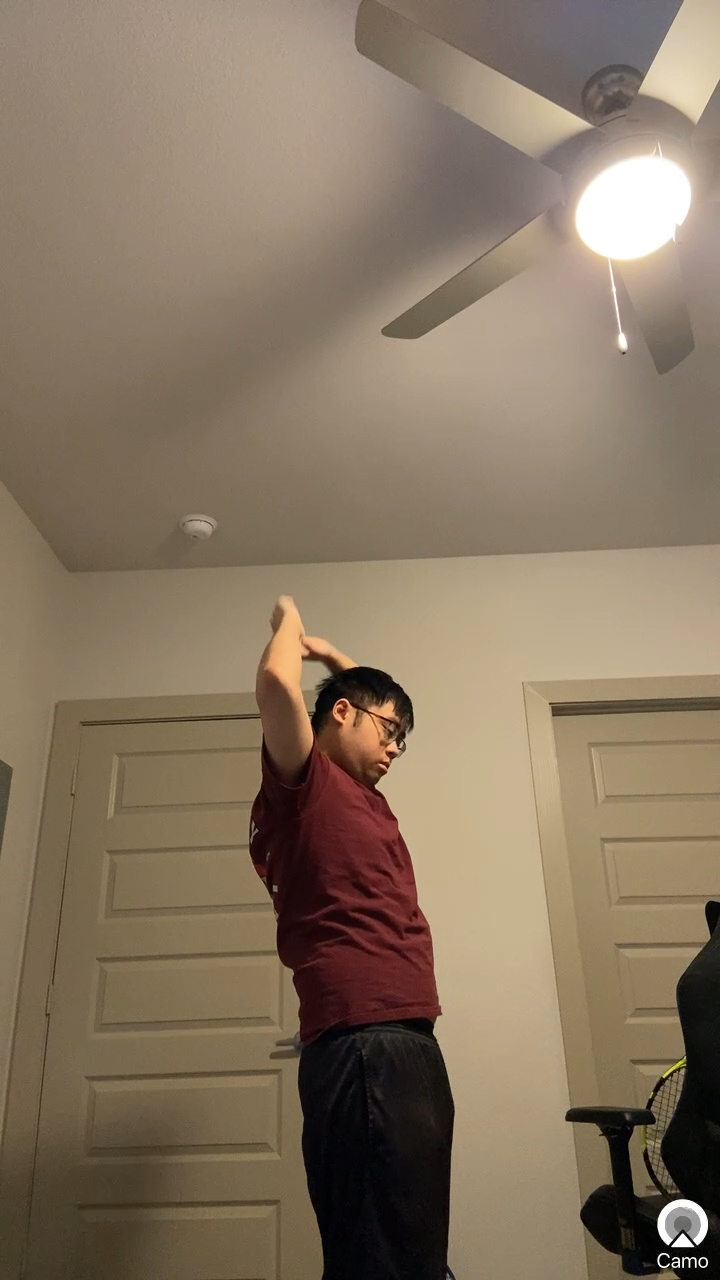Person: (210, 575, 519, 1280)
